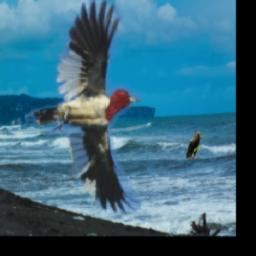Crow: (186, 131, 202, 159)
Woodpecker: (25, 0, 141, 215)
